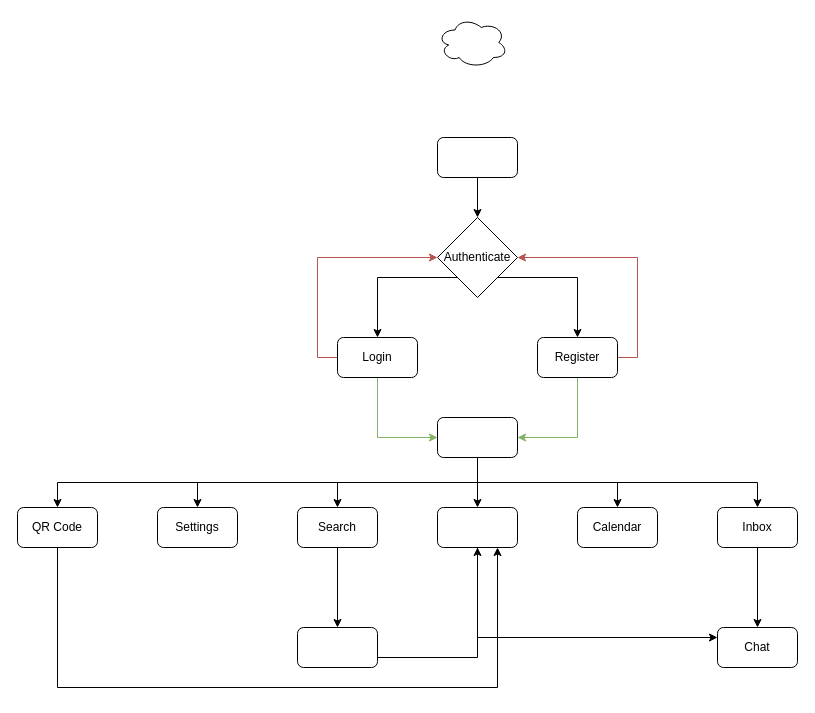
Some shapes in this 815 by 713 pixel diagram are drawn without their labels. The centre of each missing label's shape, as x and y in pixels:
Homepage: (477,157)
Profile: (477,527)
Results: (337,647)
STATE: (472,42)
Timeline: (477,437)
